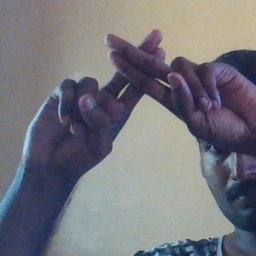F: (64, 25, 221, 138)
